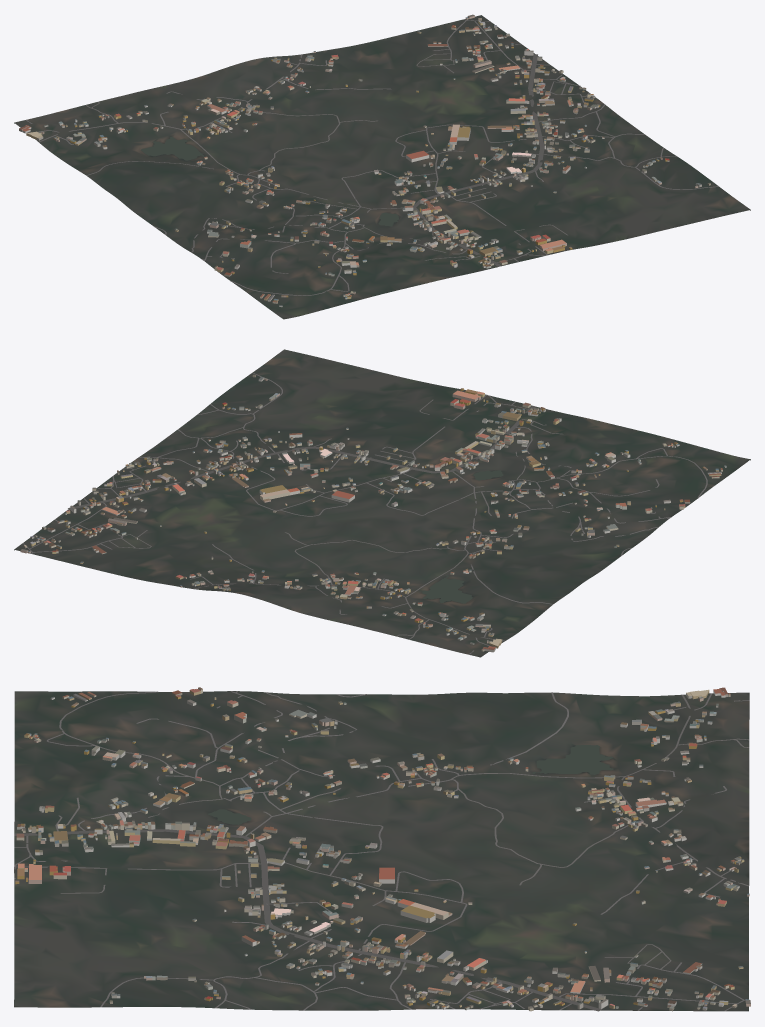
The picture shows the model from 3 angles, top to bottom: view 1: azimuth 30°, elevation 25°; view 2: azimuth 150°, elevation 25°; view 3: azimuth 270°, elevation 25°; orthographic projection. The views are drawn at different scales.
Visible parts, largest first — view 1: ground, buildings, roads, water; view 2: ground, buildings, roads, water; view 3: ground, buildings, roads, water.
Boxes of the visible parts, box(x1,y1,x2,y2) form: ground: box(14, 15, 750, 319); buildings: box(19, 14, 710, 307); roads: box(26, 19, 718, 295); water: box(141, 137, 398, 226); ground: box(14, 349, 750, 657); buildings: box(20, 374, 726, 652); roads: box(23, 372, 707, 654); water: box(422, 470, 503, 603); ground: box(14, 691, 749, 1011); buildings: box(15, 687, 750, 1011); roads: box(14, 691, 749, 1011); water: box(208, 745, 613, 824).
Bounding box in the file's own units: 1418 × 36.65 × 1406.
